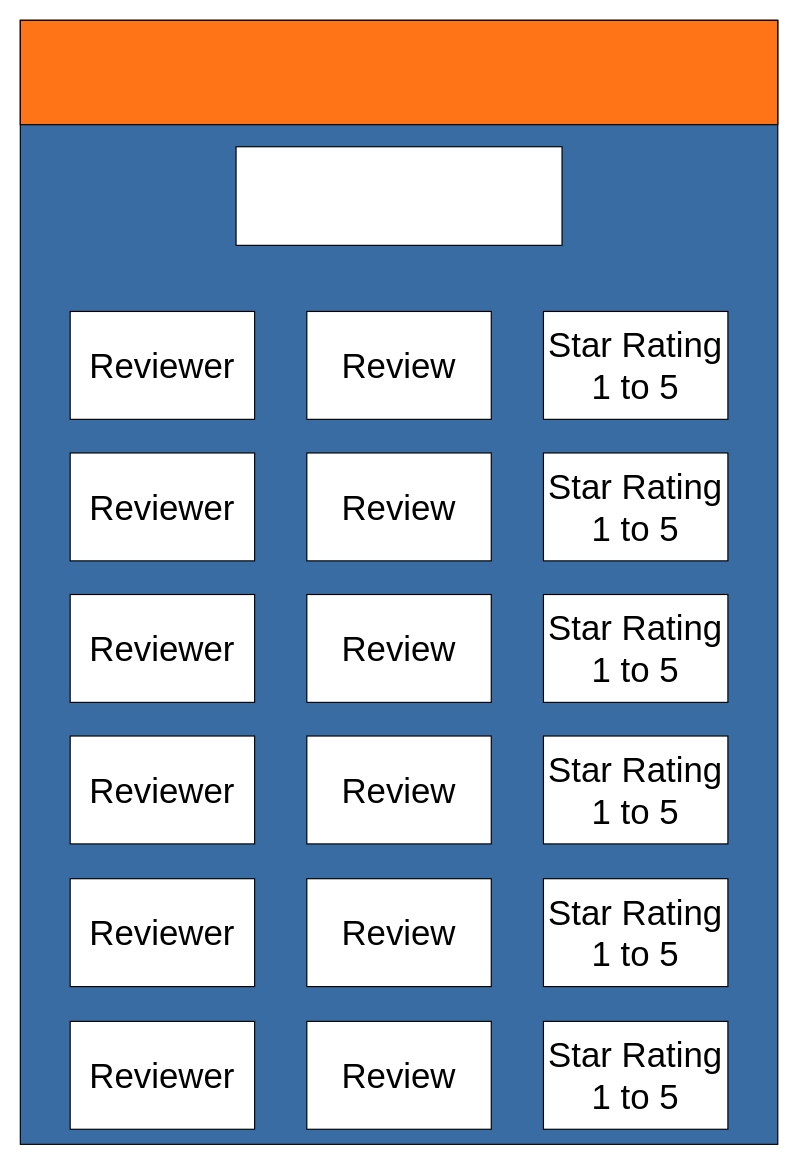
Some shapes in this 798 by 1165 pixel diagram are drawn without their labels. Here are the shapes that lost their labels. From the top down, the centre of each, then its label:
At (x=398, y=72): "Navigation Bar".
At (x=398, y=195): "Reviews".
